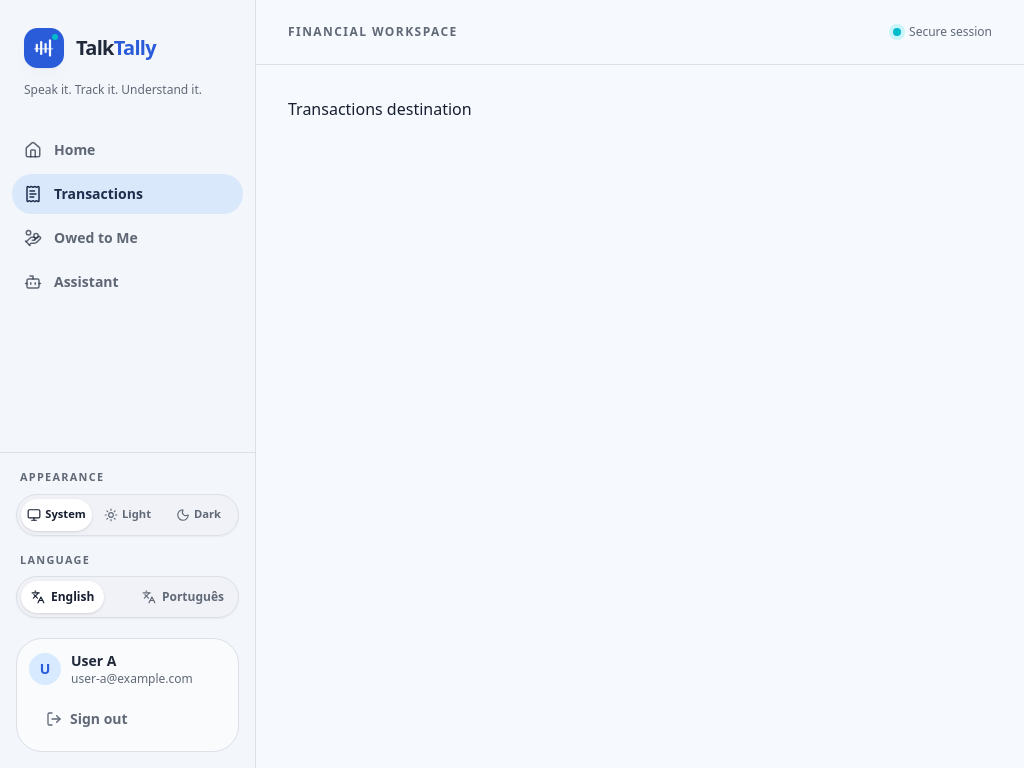
Test: authentication navigation › sends the next user to the dashboard after an explicit sign-out
Expected: the heading "Transactions destination" is shown, top-left (288, 98), bottom-right (472, 120)
Expected: the text "user-a@example.com" is shown, top-left (71, 671), bottom-right (193, 687)
Click the button "Sign out": [128, 719] box top-left (29, 699), bottom-right (226, 739)
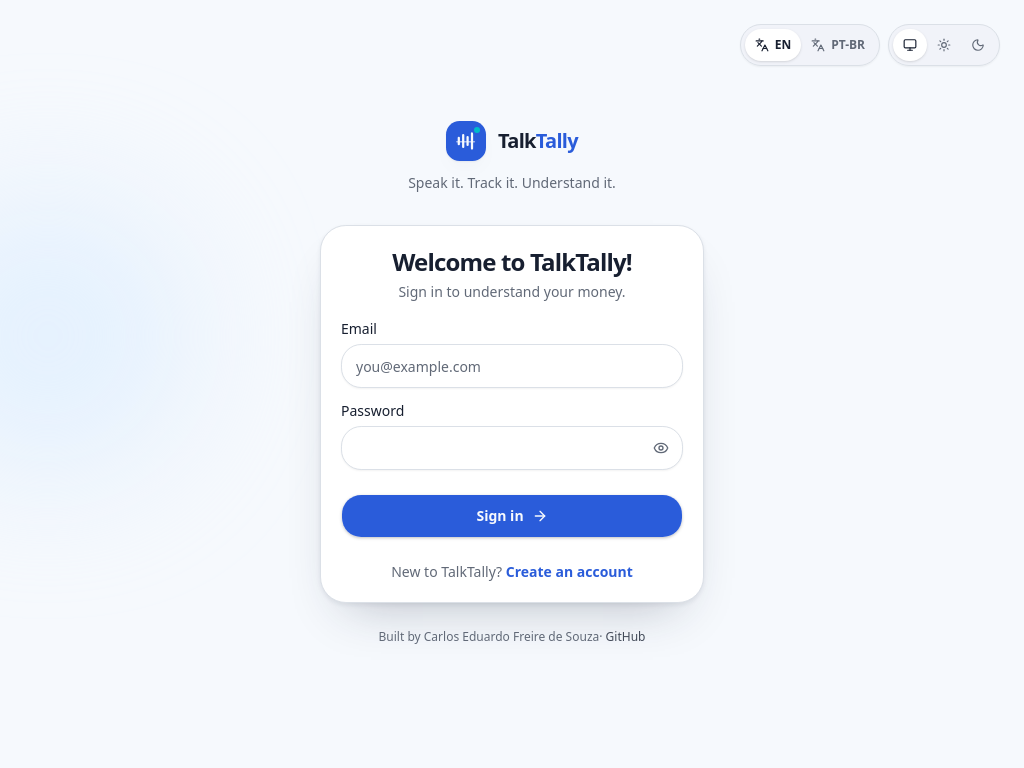
Expected: the text "Welcome to TalkTally!" is shown, top-left (392, 245), bottom-right (632, 278)
Expected: the text "Built by Carlos Eduardo Freire de Souza" is shown, top-left (378, 628), bottom-right (599, 645)
In the field labelled "Email": [512, 366] box top-left (341, 344), bottom-right (683, 388), type "user-b@example.com"
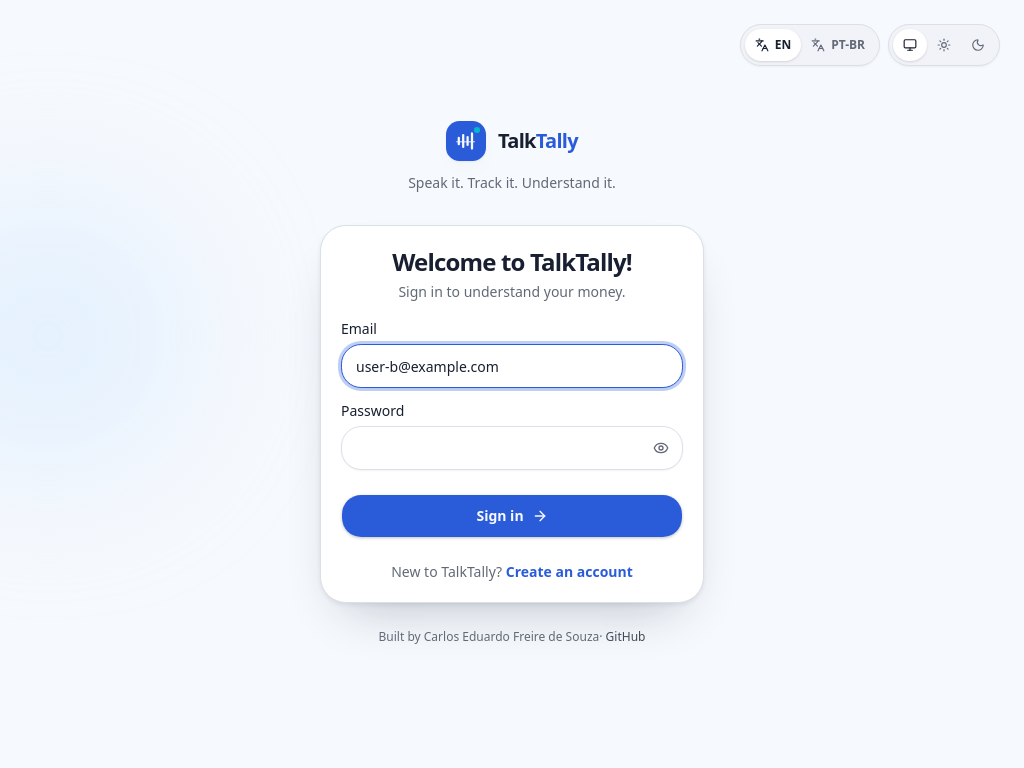
In the password field labelled "Password": [512, 448] box top-left (341, 426), bottom-right (683, 470), type "secret1234"
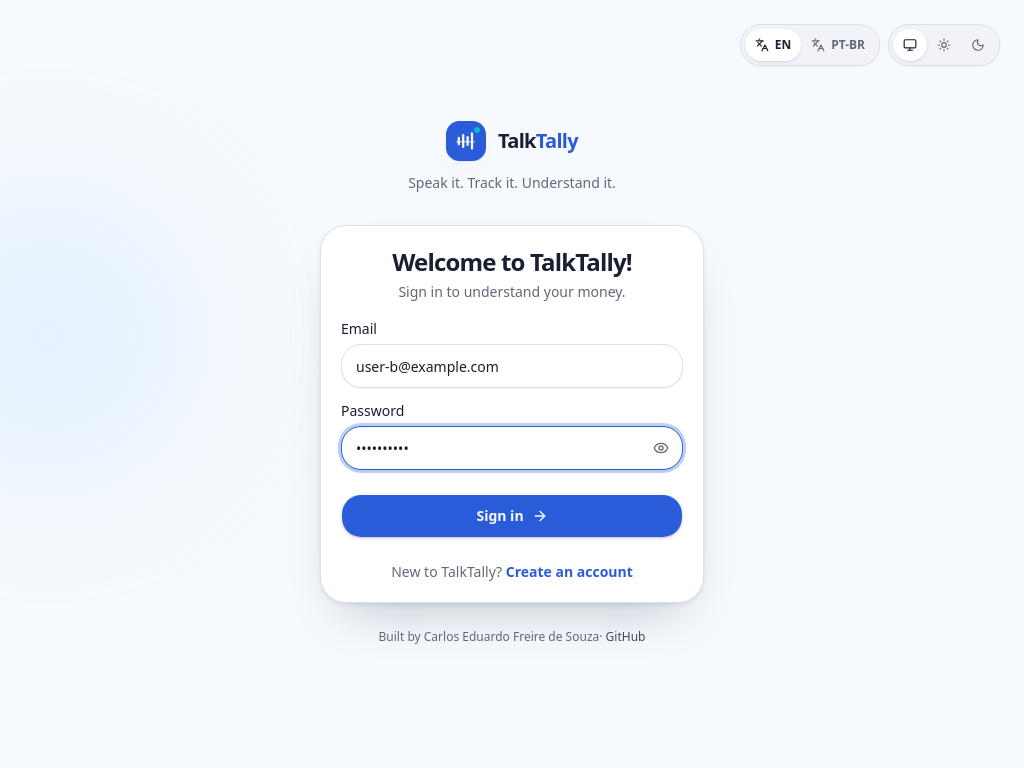
Click the button "Sign in": [512, 516] box top-left (341, 494), bottom-right (683, 538)
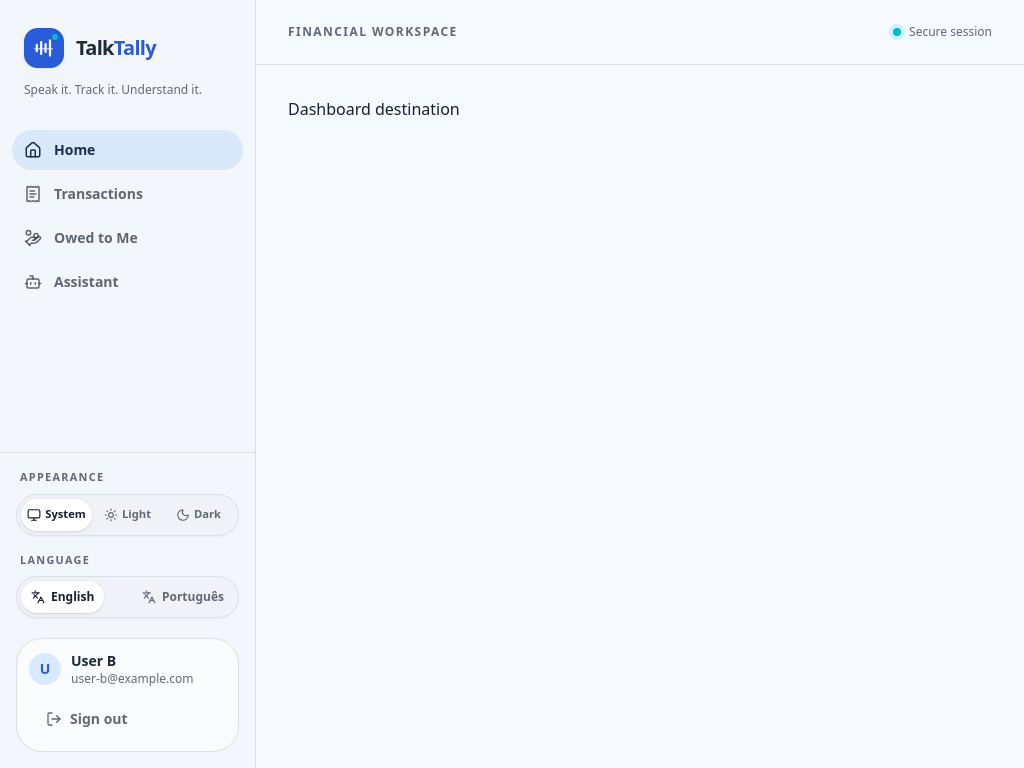
Expected: the heading "Transactions destination" is not shown
Expected: the heading "Dashboard destination" is shown, top-left (288, 98), bottom-right (460, 120)
